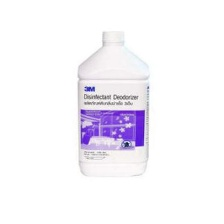cleaning_solution: (75, 26, 153, 183)
